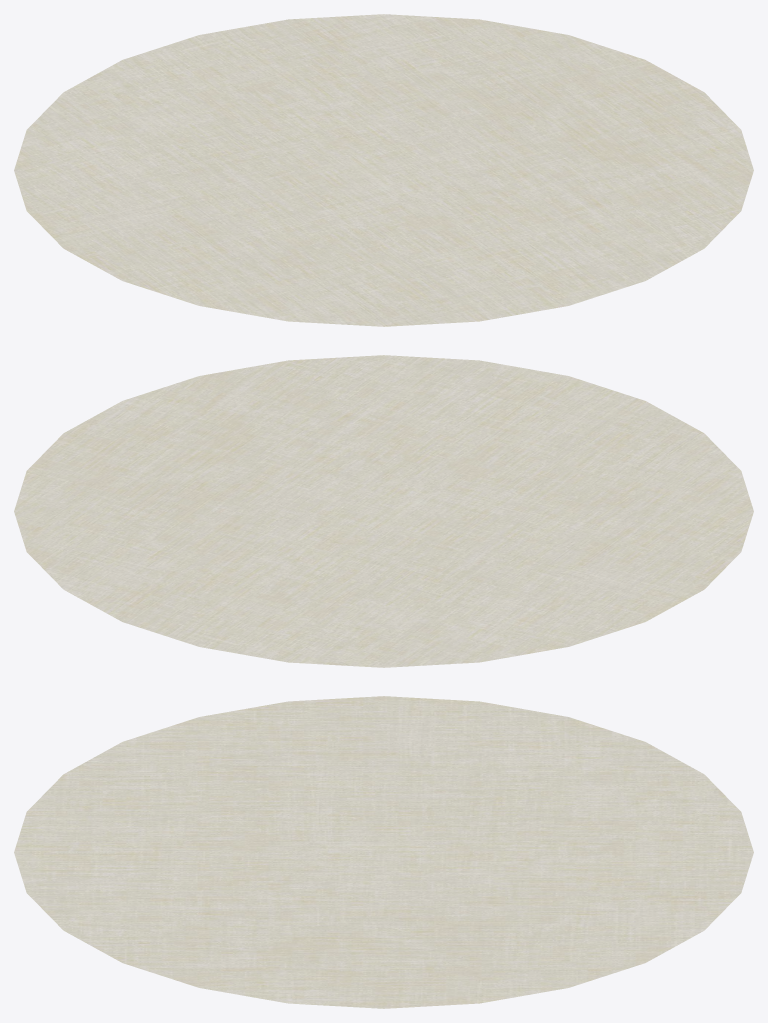
File: roof.obj
3 renders of one model, top to bottom at view 1: azimuth 30°, elevation 25°; view 2: azimuth 150°, elevation 25°; view 3: azimuth 270°, elevation 25°, orthographic.
Visible parts, largest first — view 1: pDisc1; view 2: pDisc1; view 3: pDisc1.
Boxes of the visible parts, x1,y1,x2,y2 form: pDisc1: (14, 14, 753, 326); pDisc1: (14, 355, 753, 667); pDisc1: (14, 696, 753, 1008).
Size of the model in its own units: 100 by 0 by 100.
Materials: 1 (1 with a texture image).
